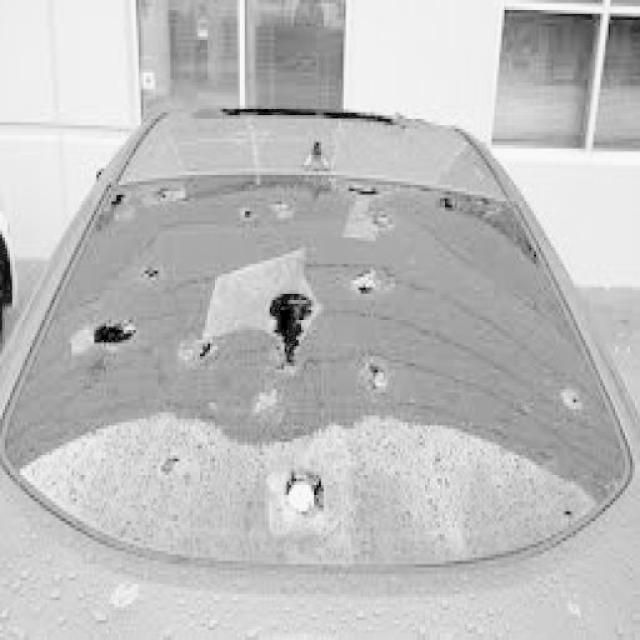car damage: (6, 175, 628, 569)
